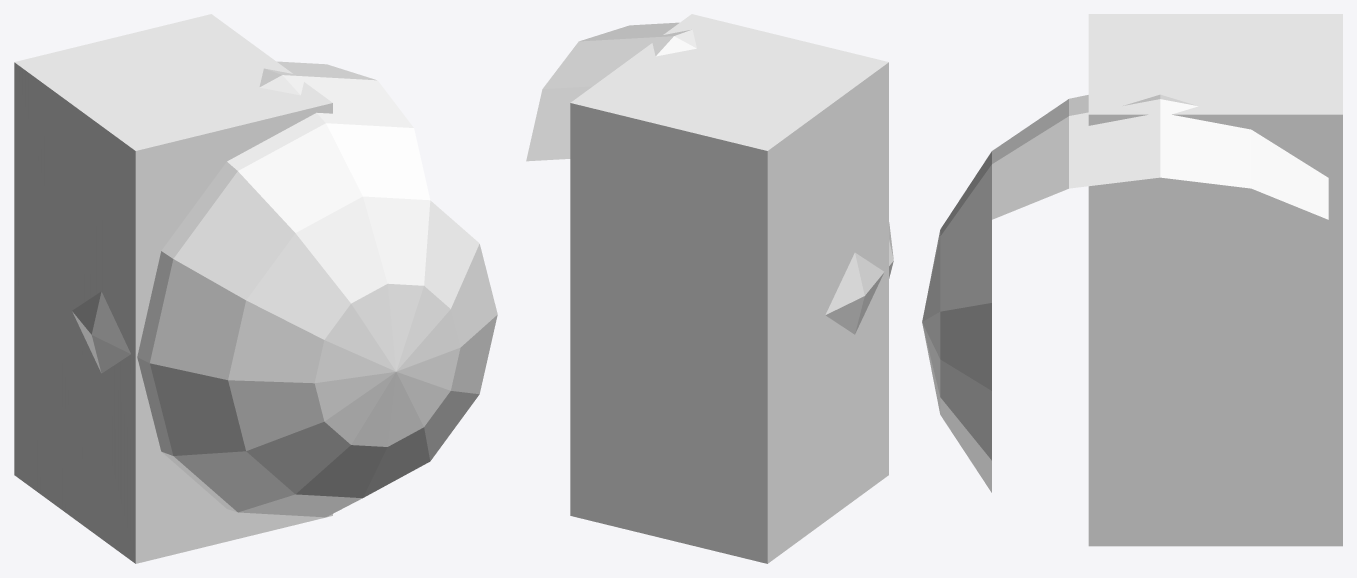
The model's file is hair_bob.glb.
3 renders of one model, left to right at view 1: azimuth 30°, elevation 25°; view 2: azimuth 150°, elevation 25°; view 3: azimuth 270°, elevation 25°, orthographic. The views are drawn at different scales.
Visible parts, largest first — view 1: hair_bob; view 2: hair_bob; view 3: hair_bob.
Boxes of the visible parts, left/top/right/bottom form: hair_bob: left=14, top=14, right=497, bottom=563; hair_bob: left=526, top=14, right=893, bottom=563; hair_bob: left=922, top=14, right=1342, bottom=546.
Size of the model in its own units: 0.4951 by 0.62 by 0.53.
1 material, 1 textured.
